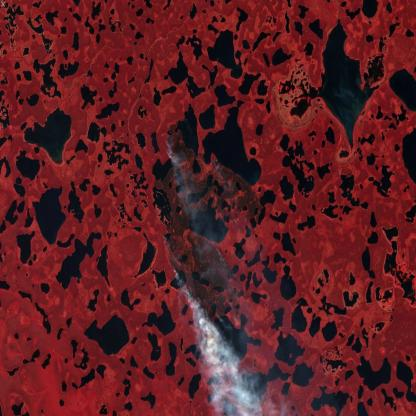fire: (148, 116, 266, 383)
